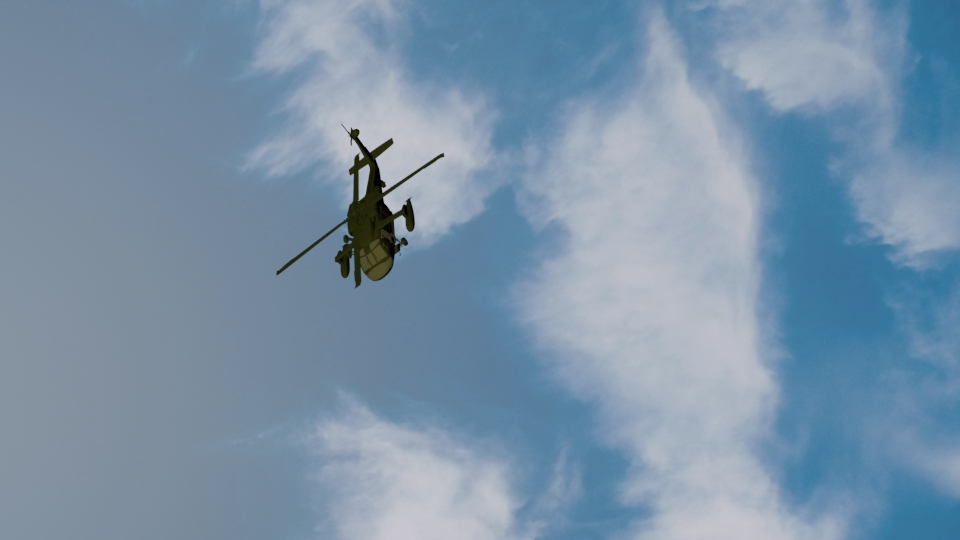heli: (277, 125, 446, 286)
